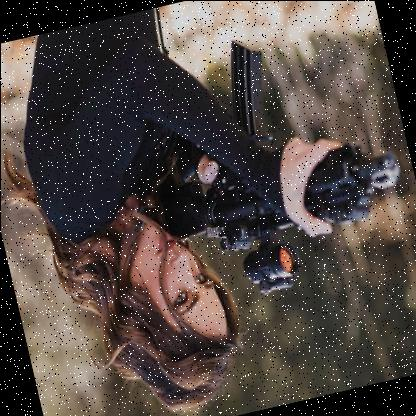rifle: (123, 0, 416, 312)
